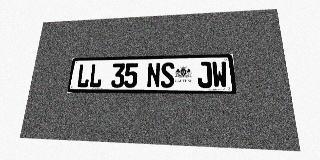3: (111, 63, 125, 88)
5: (124, 63, 138, 88)
J: (197, 62, 212, 88)
L: (76, 64, 91, 88), (88, 64, 103, 88)
N: (147, 63, 160, 88)
S: (160, 62, 174, 88)
W: (211, 61, 228, 88)
